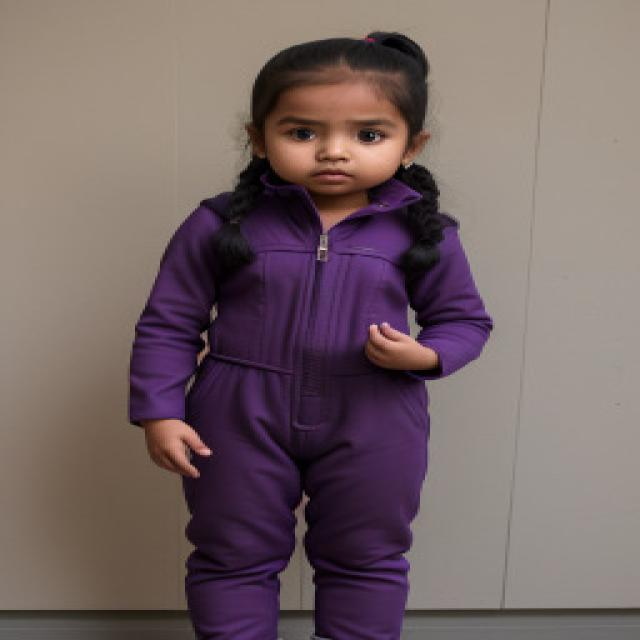Ai human 2: (116, 24, 483, 640)
